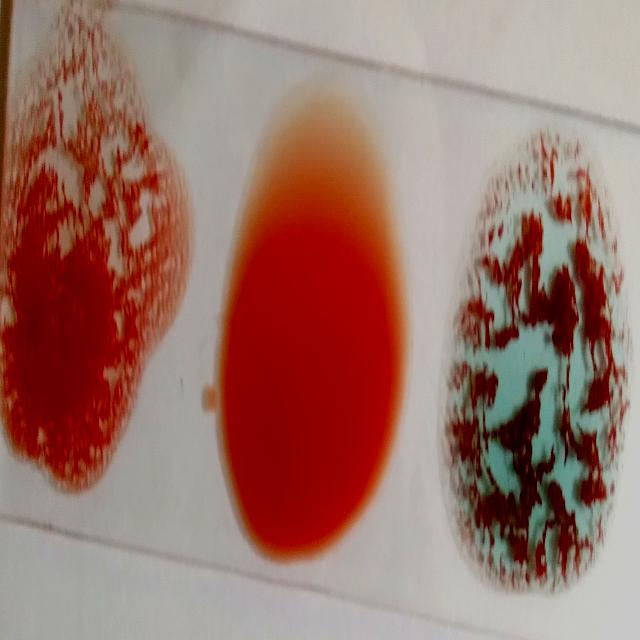A: (452, 135, 624, 590)
D: (0, 33, 160, 484)
